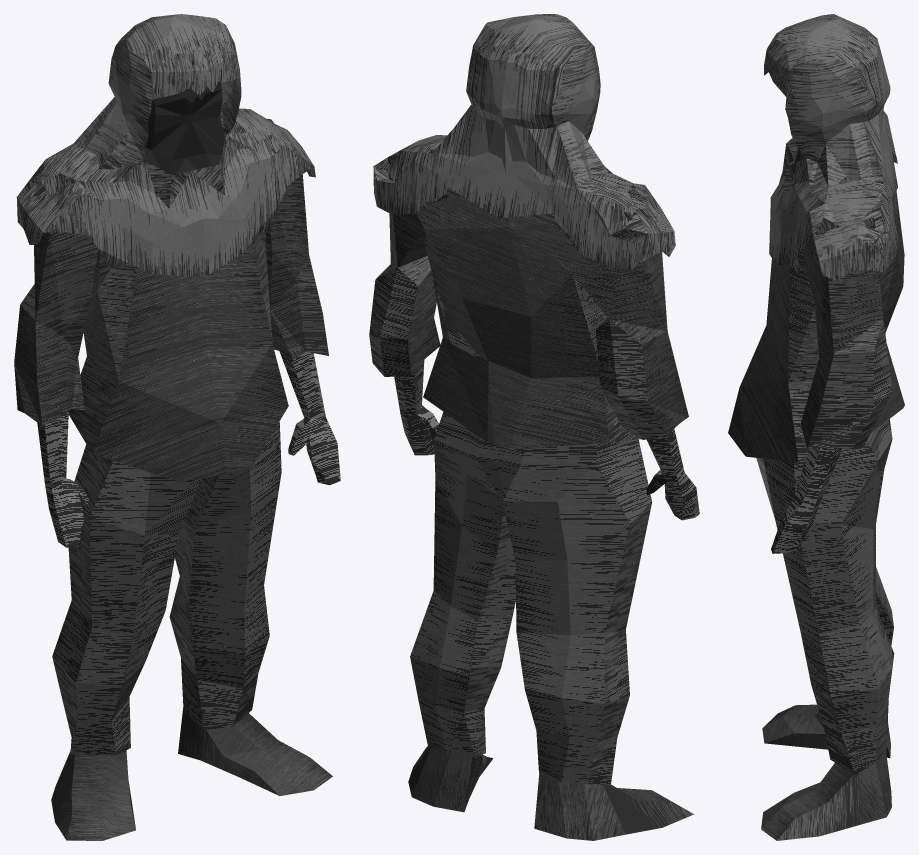
Rendered from playermodel.glb.
3 renders of one model, left to right at view 1: azimuth 30°, elevation 25°; view 2: azimuth 150°, elevation 25°; view 3: azimuth 270°, elevation 25°, orthographic. The views are drawn at different scales.
Visible parts, largest first — view 1: player; view 2: player; view 3: player.
Boxes of the visible parts, x1,y1,x2,y2 form: player: (14, 14, 340, 840); player: (369, 14, 699, 840); player: (728, 14, 904, 840).
Size of the model in its own units: 1.95 by 4.89 by 1.03.
Materials: 5 (5 with a texture image).
